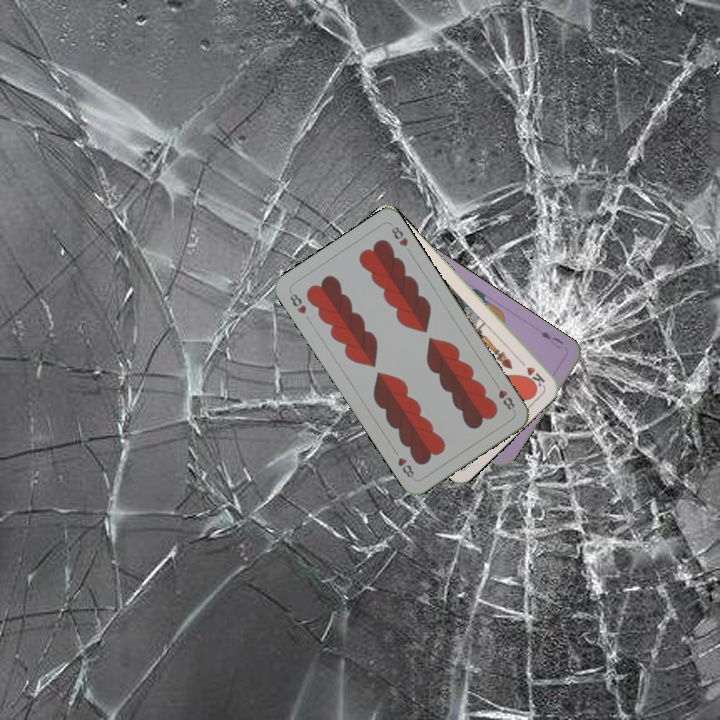EU: (536, 327, 566, 351)
H8: (286, 288, 309, 316), (494, 385, 517, 412)
HK: (514, 355, 547, 390)
